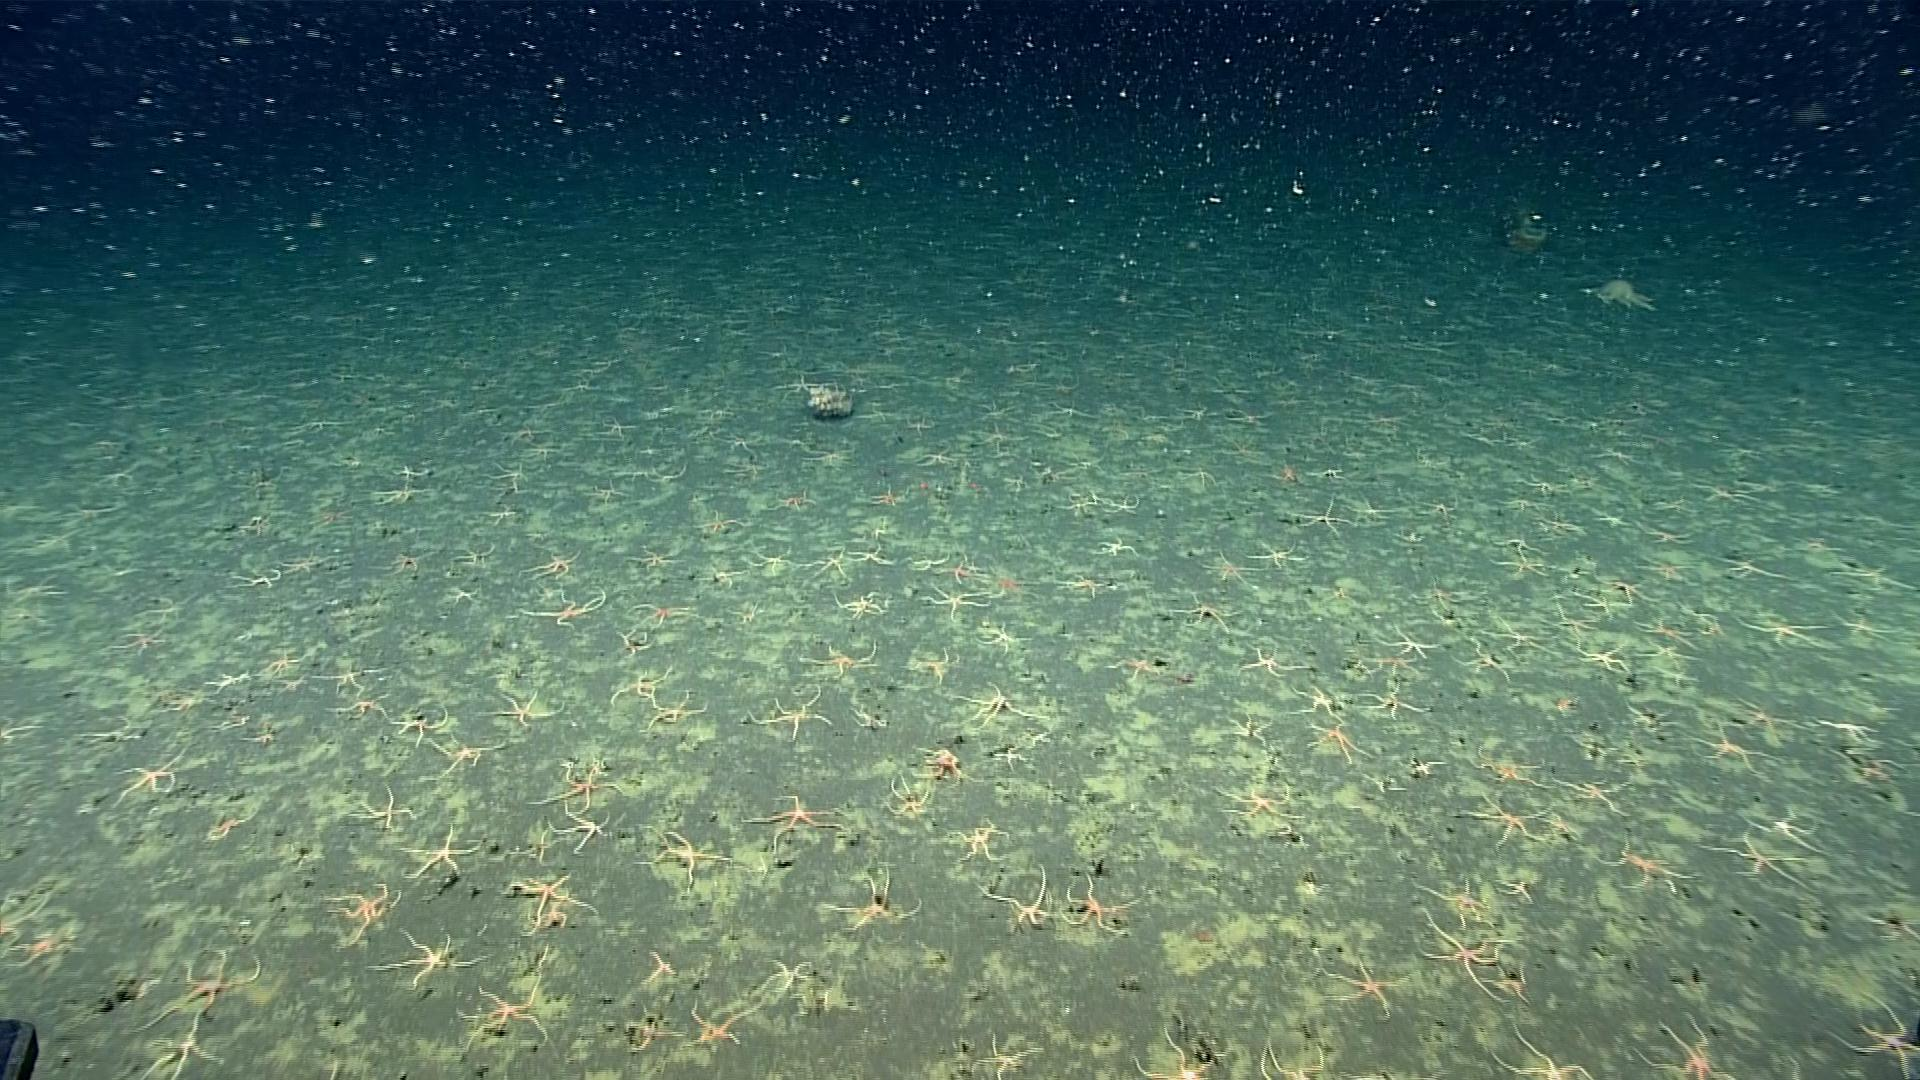brittle_sea_star: (127, 945, 262, 1033), (364, 930, 489, 998), (1617, 1010, 1739, 1079), (1822, 990, 1919, 1077), (1416, 906, 1502, 1001), (816, 868, 926, 940), (454, 975, 551, 1048), (1698, 827, 1807, 887), (636, 829, 736, 891), (501, 873, 596, 938), (1127, 1023, 1238, 1079), (140, 1007, 223, 1079), (1485, 1022, 1589, 1079), (744, 789, 843, 848), (319, 884, 401, 953), (973, 861, 1052, 931), (1597, 839, 1691, 897), (1316, 956, 1402, 1017), (1058, 870, 1138, 935), (506, 583, 609, 632), (1681, 721, 1771, 777), (1462, 796, 1556, 849), (394, 828, 485, 882), (477, 679, 566, 735), (103, 746, 181, 808), (1741, 798, 1824, 856), (1416, 877, 1507, 930), (533, 757, 622, 810), (753, 686, 835, 737), (430, 736, 513, 782), (547, 804, 615, 860), (1552, 773, 1635, 818), (1735, 611, 1829, 649), (951, 683, 1030, 728), (9, 920, 78, 972), (972, 1031, 1044, 1079), (1352, 682, 1432, 724), (1469, 748, 1547, 791), (1307, 719, 1375, 767), (1834, 556, 1917, 595), (349, 785, 413, 835), (1254, 1035, 1325, 1079), (1486, 613, 1557, 657), (944, 815, 1007, 864), (922, 579, 1005, 616), (687, 1004, 754, 1048), (1218, 787, 1292, 827), (804, 642, 885, 678), (645, 686, 709, 729), (1295, 496, 1360, 539), (1234, 644, 1308, 680), (388, 704, 451, 745), (1378, 624, 1448, 661), (1172, 596, 1240, 634), (310, 658, 377, 695), (365, 471, 431, 508), (1, 700, 69, 736), (625, 600, 703, 630), (1458, 637, 1513, 680), (1577, 641, 1640, 678), (111, 622, 171, 661), (882, 774, 934, 819), (601, 674, 663, 711), (1490, 542, 1549, 580), (326, 690, 394, 723), (200, 806, 257, 845), (758, 957, 820, 992), (1205, 549, 1262, 585), (518, 549, 582, 582), (1414, 578, 1472, 613), (916, 741, 967, 782), (1710, 553, 1787, 579), (1571, 585, 1633, 617), (626, 1017, 679, 1054), (1634, 555, 1700, 584), (1290, 684, 1345, 719), (1251, 542, 1311, 574), (1547, 607, 1601, 641), (832, 593, 895, 622), (625, 543, 684, 574), (973, 622, 1027, 655), (256, 646, 307, 680), (1106, 657, 1170, 684), (804, 549, 852, 584), (1842, 613, 1900, 642), (161, 686, 214, 716), (907, 649, 952, 684), (225, 566, 281, 593), (203, 666, 256, 695), (1638, 640, 1692, 667), (377, 550, 429, 578), (487, 460, 531, 492), (229, 724, 282, 750), (456, 543, 506, 571), (749, 547, 796, 576), (615, 622, 654, 657), (691, 510, 745, 535), (208, 703, 251, 735), (849, 543, 895, 571), (644, 951, 680, 985), (1058, 575, 1109, 599), (583, 479, 630, 504), (444, 583, 487, 611), (1540, 517, 1590, 539), (1654, 665, 1697, 690), (310, 508, 361, 529), (277, 667, 313, 698), (777, 488, 816, 514), (944, 562, 985, 587), (869, 484, 909, 509), (276, 556, 322, 578), (1098, 537, 1139, 560), (1418, 498, 1457, 522), (1102, 493, 1141, 517), (1055, 495, 1095, 517), (1002, 471, 1031, 497), (910, 556, 945, 575)
